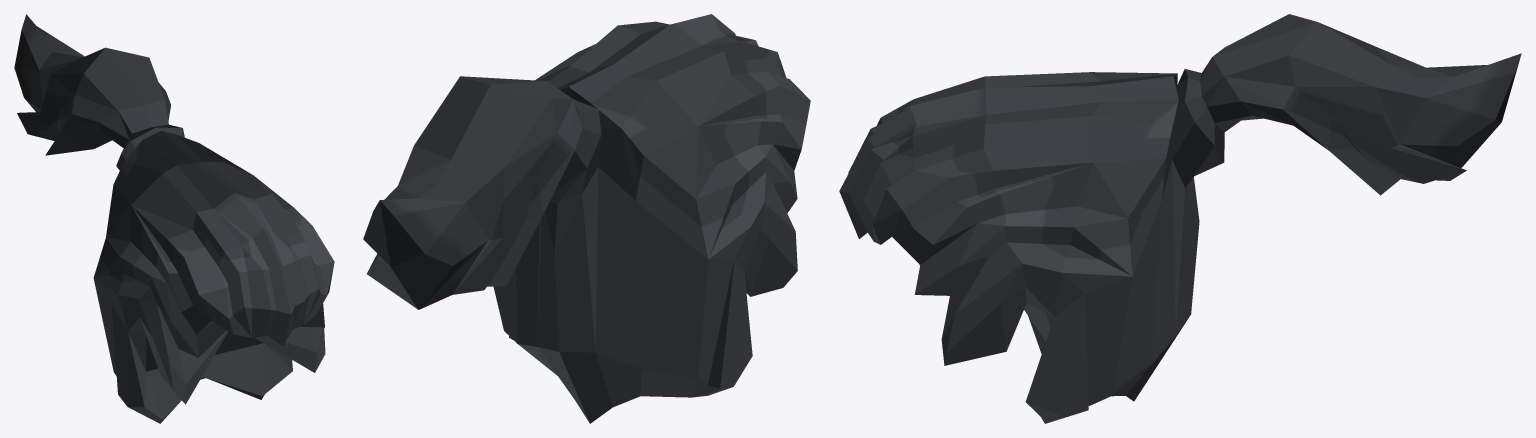
File: SM_Chr_Attach_Hair_Ponytail_02.fbx
3 renders of one model, left to right at view 1: azimuth 30°, elevation 25°; view 2: azimuth 150°, elevation 25°; view 3: azimuth 270°, elevation 25°, orthographic. The views are drawn at different scales.
Visible parts, largest first — view 1: SM_Chr_Attach_Hair_Ponytail_02; view 2: SM_Chr_Attach_Hair_Ponytail_02; view 3: SM_Chr_Attach_Hair_Ponytail_02.
Boxes of the visible parts, x1=… form: SM_Chr_Attach_Hair_Ponytail_02: x1=14, y1=14, x2=334, y2=423; SM_Chr_Attach_Hair_Ponytail_02: x1=363, y1=14, x2=810, y2=423; SM_Chr_Attach_Hair_Ponytail_02: x1=839, y1=14, x2=1521, y2=423.
Size of the model in its own units: 21.56 by 34.79 by 56.66.
